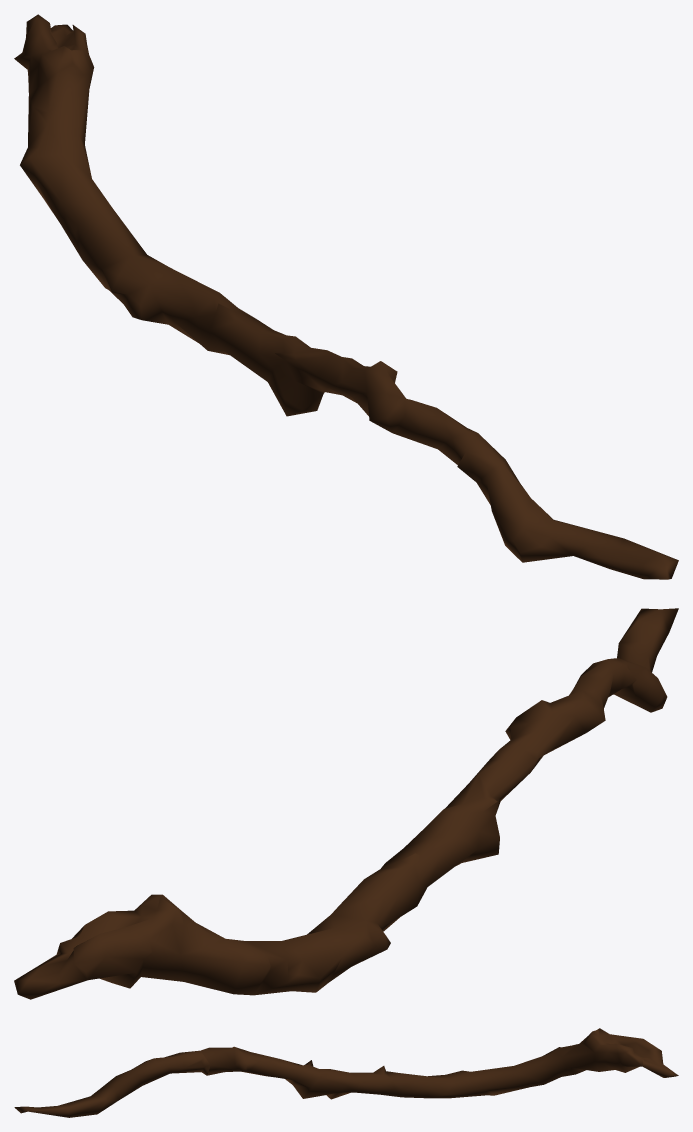
File: zars1mesh.fbx
3 renders of one model, top to bottom at view 1: azimuth 30°, elevation 25°; view 2: azimuth 150°, elevation 25°; view 3: azimuth 270°, elevation 25°, orthographic. The views are drawn at different scales.
Parts seen in each view (by area): view 1: dry_branches_medium_01_b; view 2: dry_branches_medium_01_b; view 3: dry_branches_medium_01_b.
Boxes of the visible parts, x1=… form: dry_branches_medium_01_b: x1=14, y1=14, x2=678, y2=579; dry_branches_medium_01_b: x1=14, y1=608, x2=678, y2=999; dry_branches_medium_01_b: x1=14, y1=1028, x2=678, y2=1117.
Size of the model in its own units: 1.59 by 1.48 by 10.96.
